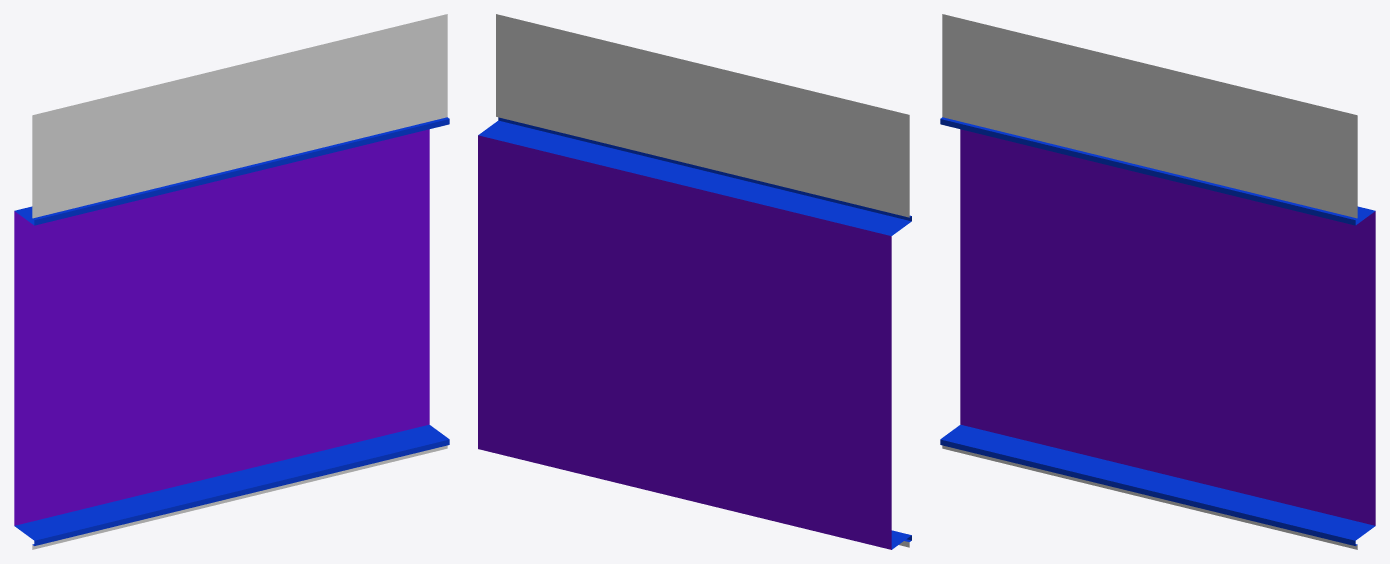
The model's file is SM_WallOfficeWindow.fbx.
3 views of the same model, side by side, from view 1: azimuth 30°, elevation 25°; view 2: azimuth 150°, elevation 25°; view 3: azimuth 330°, elevation 25° (orthographic).
Visible parts, largest first — view 1: WallOfficeWindow; view 2: WallOfficeWindow; view 3: WallOfficeWindow.
Boxes of the visible parts, x1,y1,x2,y2 form: WallOfficeWindow: (14, 14, 449, 549); WallOfficeWindow: (478, 14, 911, 549); WallOfficeWindow: (940, 14, 1375, 549).
Size of the model in its own units: 400 by 400 by 33.8.
